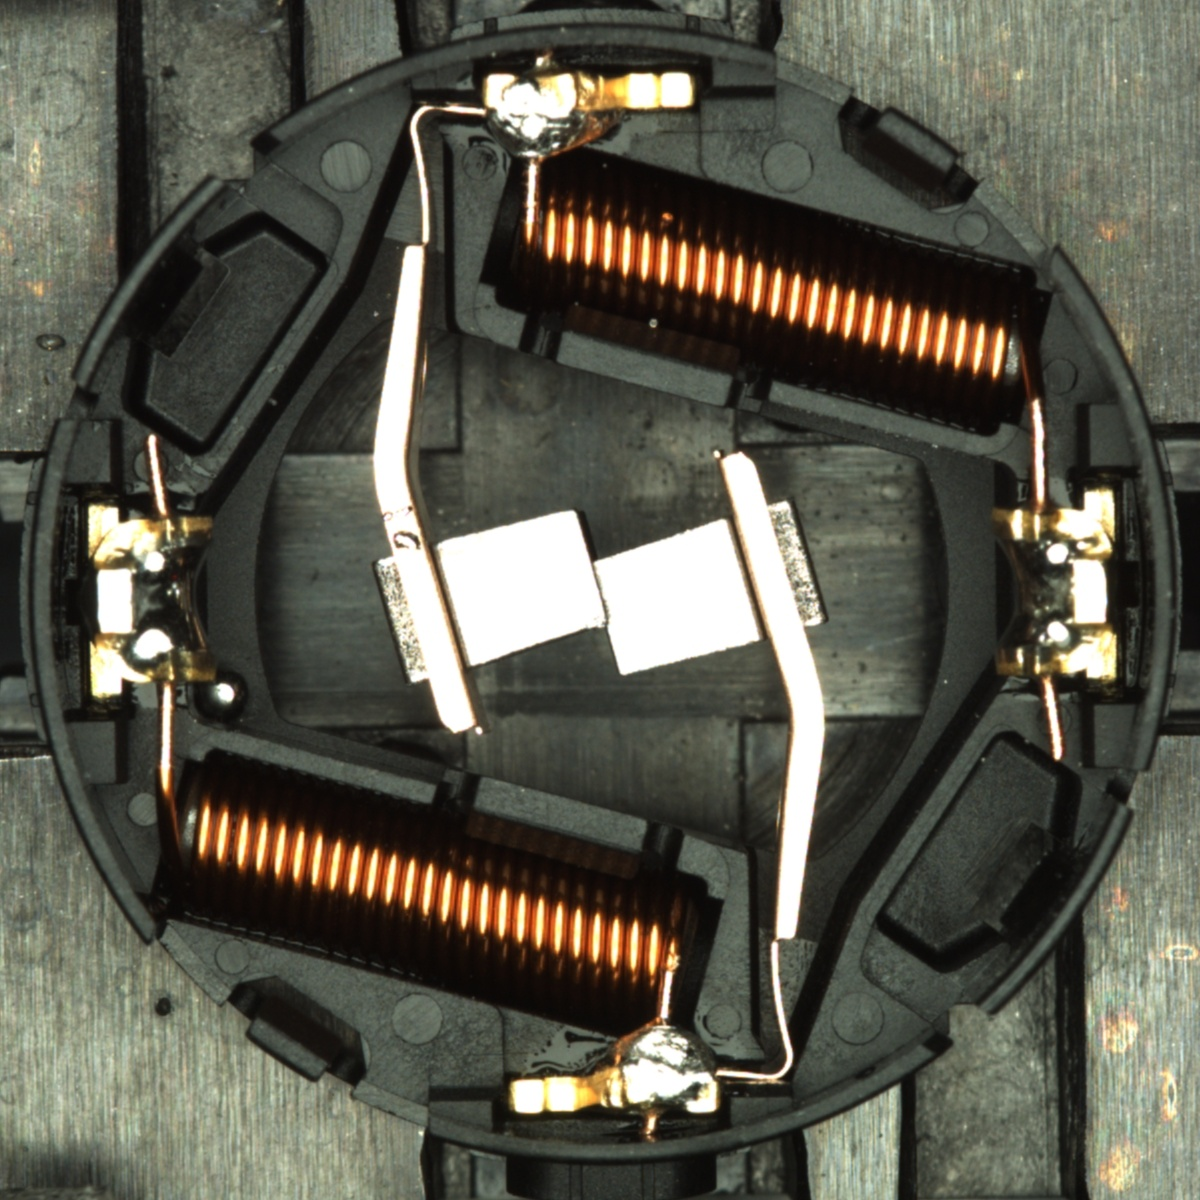1: (253, 31, 482, 255), (712, 929, 941, 1153)
2: (712, 31, 941, 255), (253, 929, 482, 1153)
3: (24, 255, 253, 480), (941, 704, 1170, 929)
4: (253, 255, 482, 480), (712, 704, 941, 929)
5: (482, 143, 712, 368), (482, 816, 712, 1041)
6: (712, 255, 941, 480), (253, 704, 482, 929)
7: (941, 255, 1170, 480), (24, 704, 253, 929)
cacbon: (393, 498, 801, 686)
chau_dien: (80, 498, 221, 699), (984, 488, 1124, 687)
hat_chi: (204, 670, 249, 719)
tay_choi: (481, 68, 699, 168), (508, 1018, 722, 1117)
thanh_de: (58, 163, 245, 405), (954, 788, 1140, 1030)
vun_chi: (393, 530, 421, 551)
